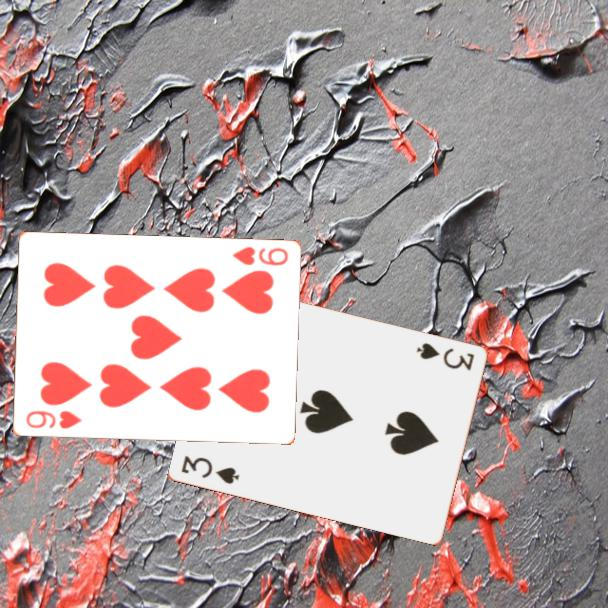h09: (228, 243, 291, 269), (22, 407, 85, 432)
s03: (178, 452, 243, 487), (413, 339, 477, 373)
